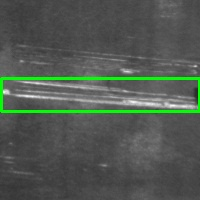scratches: (1, 78, 199, 111), (18, 42, 197, 73)
